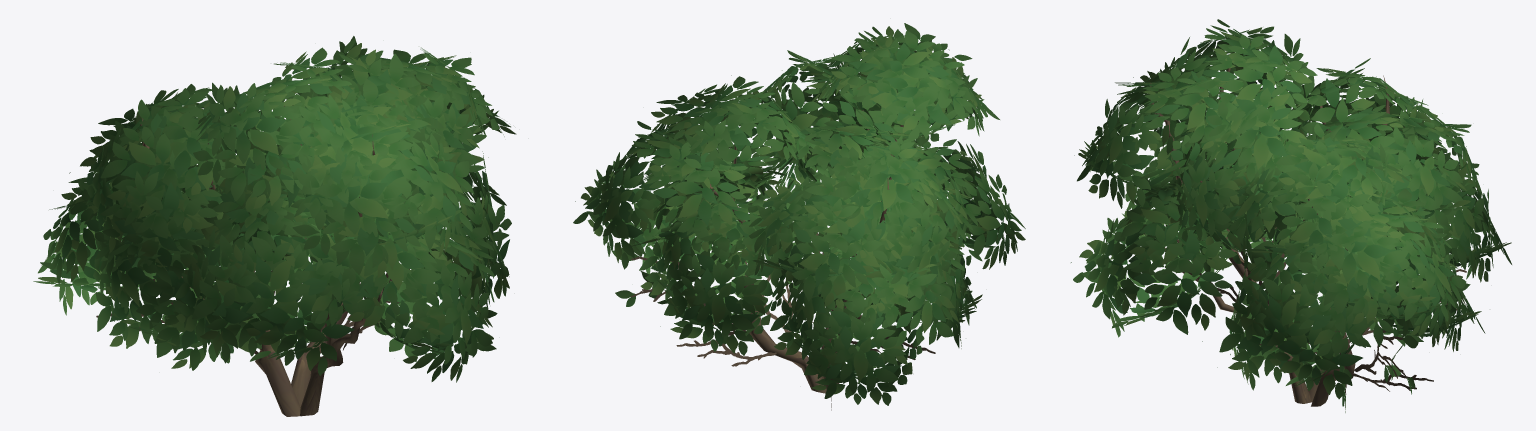
File: SM_FW01_Bush_03.fbx
The picture shows the model from 3 angles, left to right: view 1: azimuth 30°, elevation 25°; view 2: azimuth 150°, elevation 25°; view 3: azimuth 270°, elevation 25°; orthographic projection. The views are drawn at different scales.
Visible parts, largest first — view 1: SM_FW01_Bush_03_LOD0; view 2: SM_FW01_Bush_03_LOD0; view 3: SM_FW01_Bush_03_LOD0.
Boxes of the visible parts, left/top/right/bottom form: SM_FW01_Bush_03_LOD0: left=33, top=36, right=516, bottom=416; SM_FW01_Bush_03_LOD0: left=573, top=23, right=1025, bottom=410; SM_FW01_Bush_03_LOD0: left=1071, top=19, right=1511, bottom=412.
Size of what is drawn, in the model's own units: 1.87 by 1.57 by 1.81.
